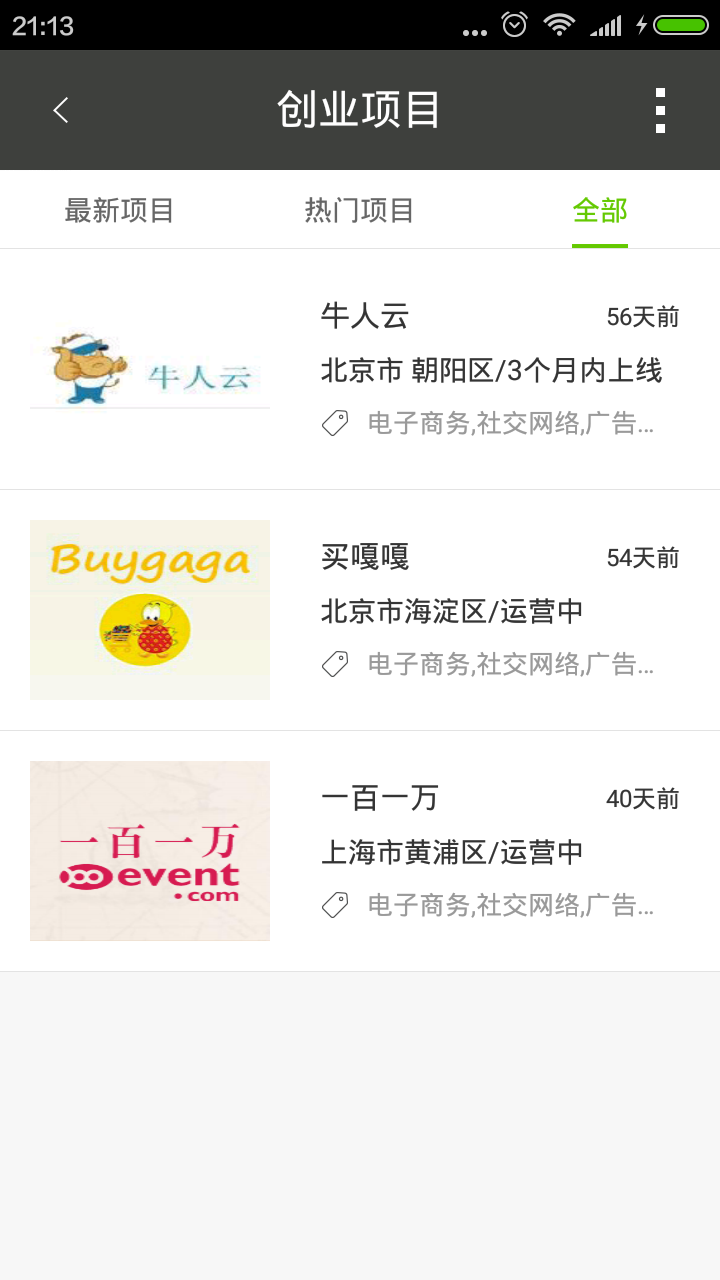nav: (19, 171, 720, 259)
